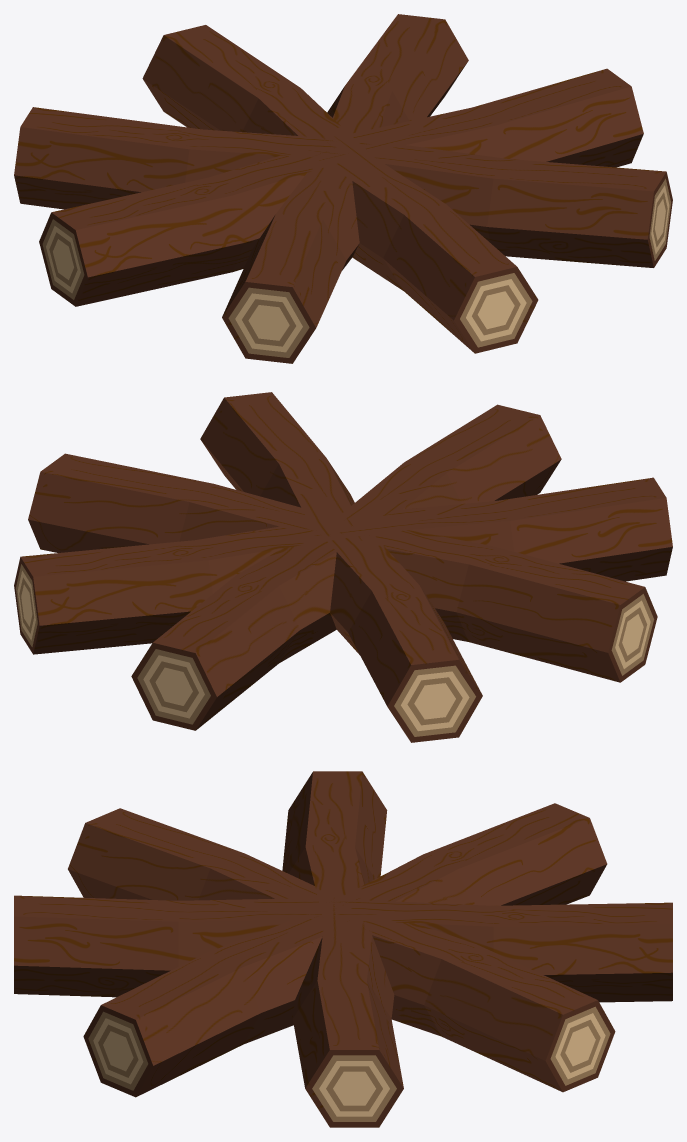
Rendered from Campfire.FBX.
The picture shows the model from 3 angles, top to bottom: view 1: azimuth 30°, elevation 25°; view 2: azimuth 150°, elevation 25°; view 3: azimuth 270°, elevation 25°; orthographic projection.
Visible parts, largest first — view 1: trunk003, trunk001, trunk, trunk002; view 2: trunk001, trunk002, trunk, trunk003; view 3: trunk, trunk003, trunk002, trunk001.
Boxes of the visible parts, left/top/right/bottom form: trunk003: left=14, top=107, right=672, bottom=267; trunk001: left=39, top=68, right=643, bottom=306; trunk: left=142, top=25, right=538, bottom=353; trunk002: left=222, top=14, right=468, bottom=363; trunk001: left=28, top=453, right=657, bottom=682; trunk002: left=14, top=477, right=672, bottom=654; trunk: left=131, top=404, right=561, bottom=730; trunk003: left=200, top=392, right=482, bottom=742; trunk: left=14, top=895, right=672, bottom=1002; trunk003: left=83, top=803, right=607, bottom=1097; trunk002: left=68, top=808, right=615, bottom=1092; trunk001: left=282, top=771, right=403, bottom=1127.
Bounding box in the file's own units: 100 × 12.99 × 100.
